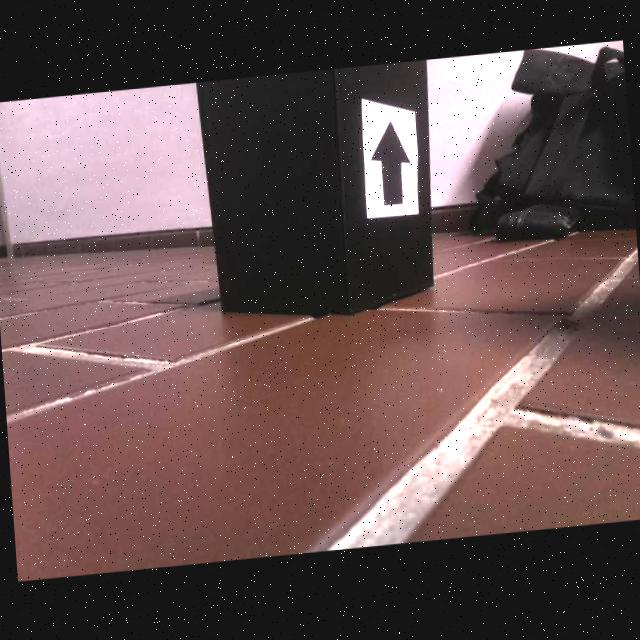UP: (369, 123, 411, 209)
